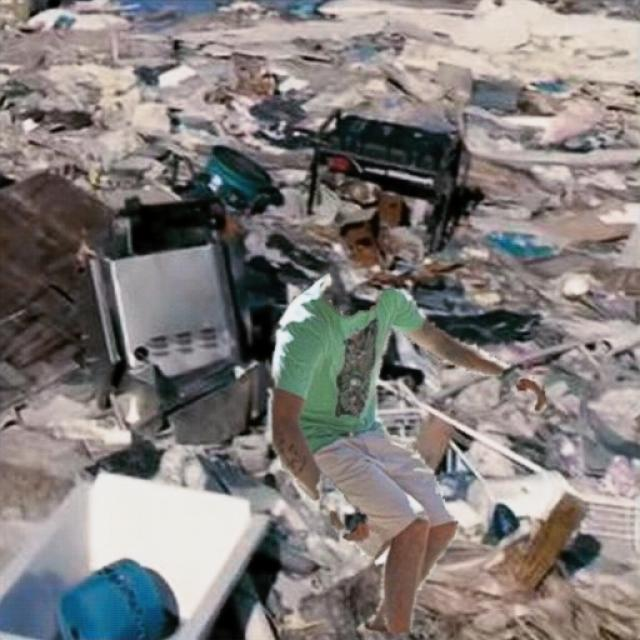Person in Rubble: (273, 274, 546, 632)
